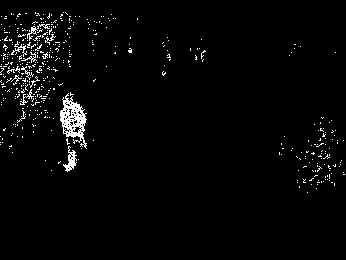person: (59, 91, 87, 172)
